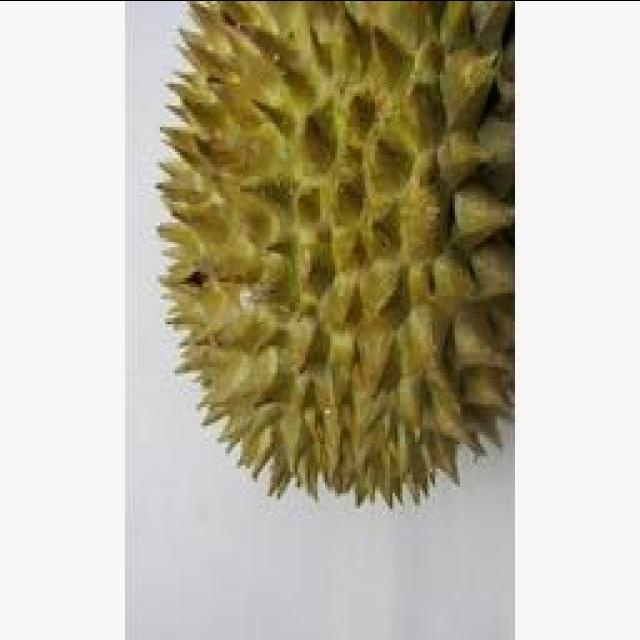agrume: (125, 0, 519, 520)
